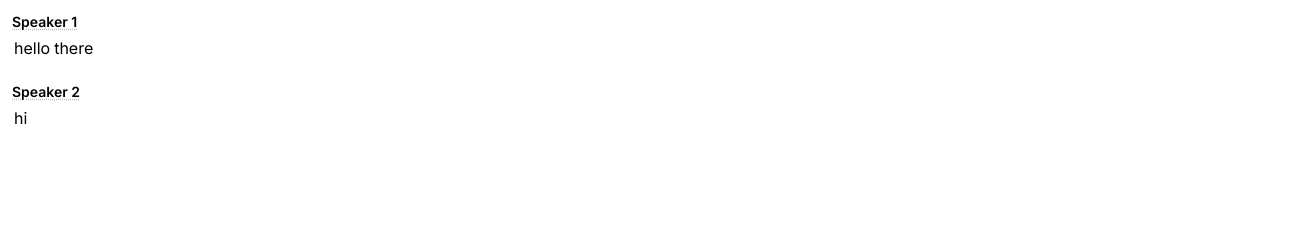
Test case: RefineEditor — VFTE speaker tagging › a confirmed tag binds by label and flips the name in place
This screenshot has width=1292, height=242.
Click the button "Speaker 1": (45, 22) [12,12,77,32]
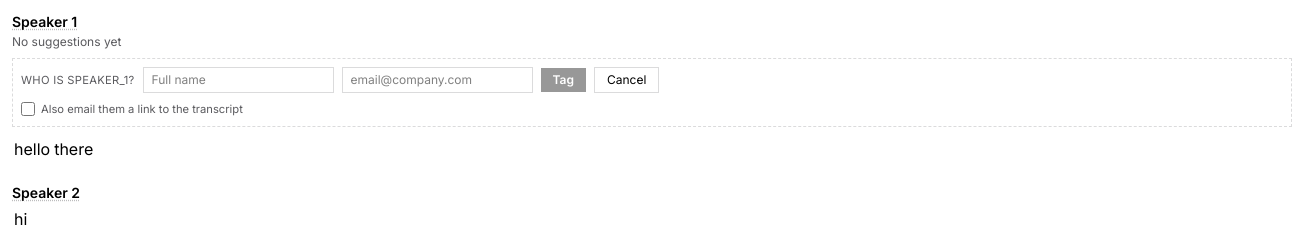
In the field with placeholder "Full name": (238, 80) [142,67,334,93], type "Alice"
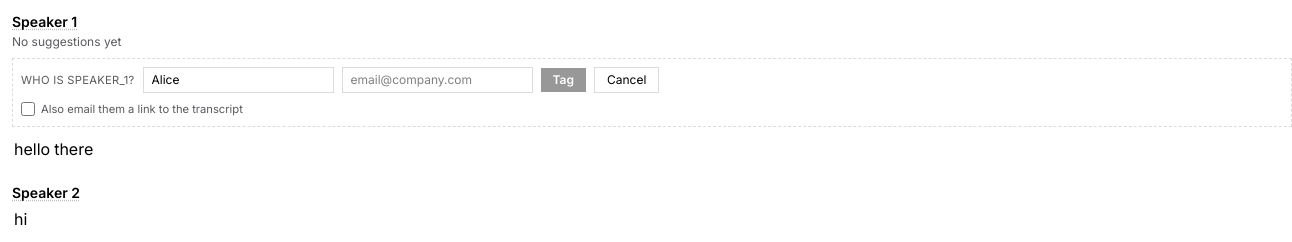
In the field with placeholder "email@company.com": (437, 80) [342,67,532,93], type "alice@x.com"
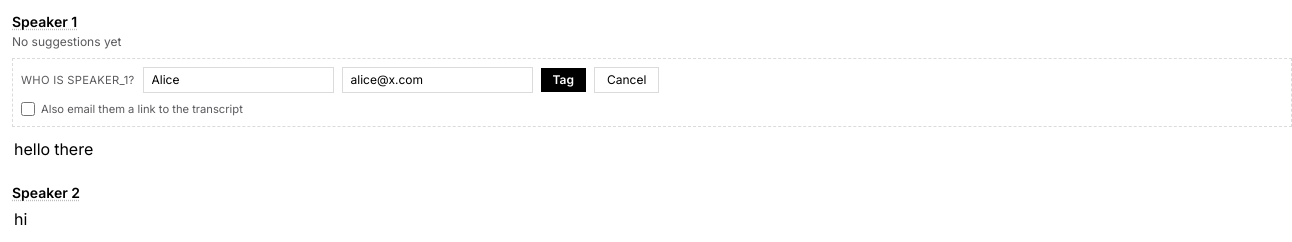
Click the button "Tag": (563, 80) [540,68,586,92]
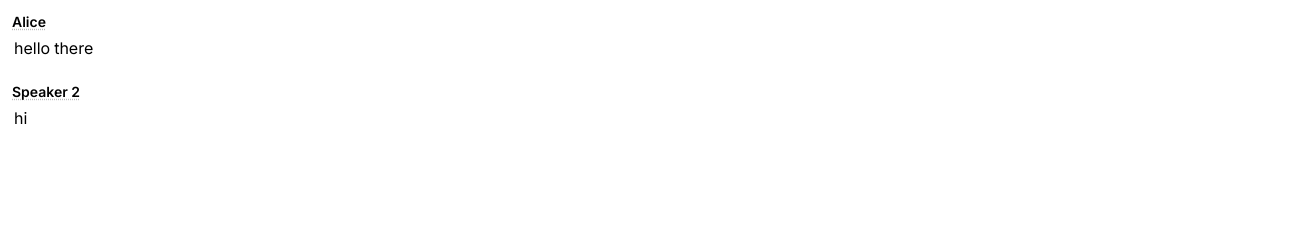
Expected: the button "Alice" is shown, [12,12,46,32]
